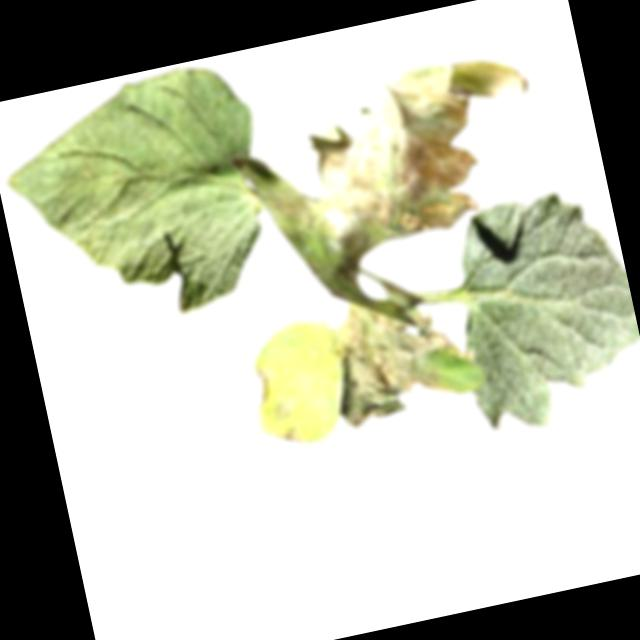Late_blight: (219, 43, 556, 273), (318, 280, 477, 429), (251, 367, 280, 403), (272, 392, 303, 418)
healthy: (1, 55, 289, 346), (437, 179, 640, 439)
